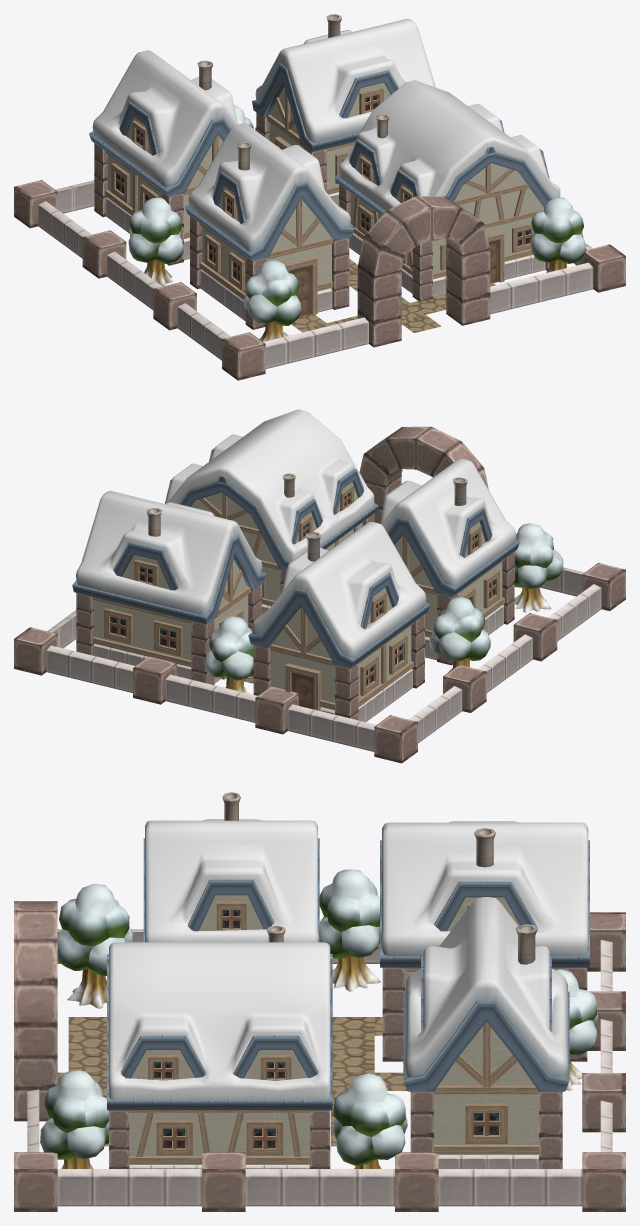
File: Town Snow.fbx
The picture shows the model from 3 angles, top to bottom: view 1: azimuth 30°, elevation 25°; view 2: azimuth 150°, elevation 25°; view 3: azimuth 270°, elevation 25°; orthographic projection. The views are drawn at different scales.
Visible parts, largest first — view 1: Town_snow; view 2: Town_snow; view 3: Town_snow.
Boxes of the visible parts, x1,y1,x2,y2 form: Town_snow: (14,14,625,380); Town_snow: (14,409,625,763); Town_snow: (14,792,625,1211).
Size of the model in its own units: 7 by 2.7 by 7.
